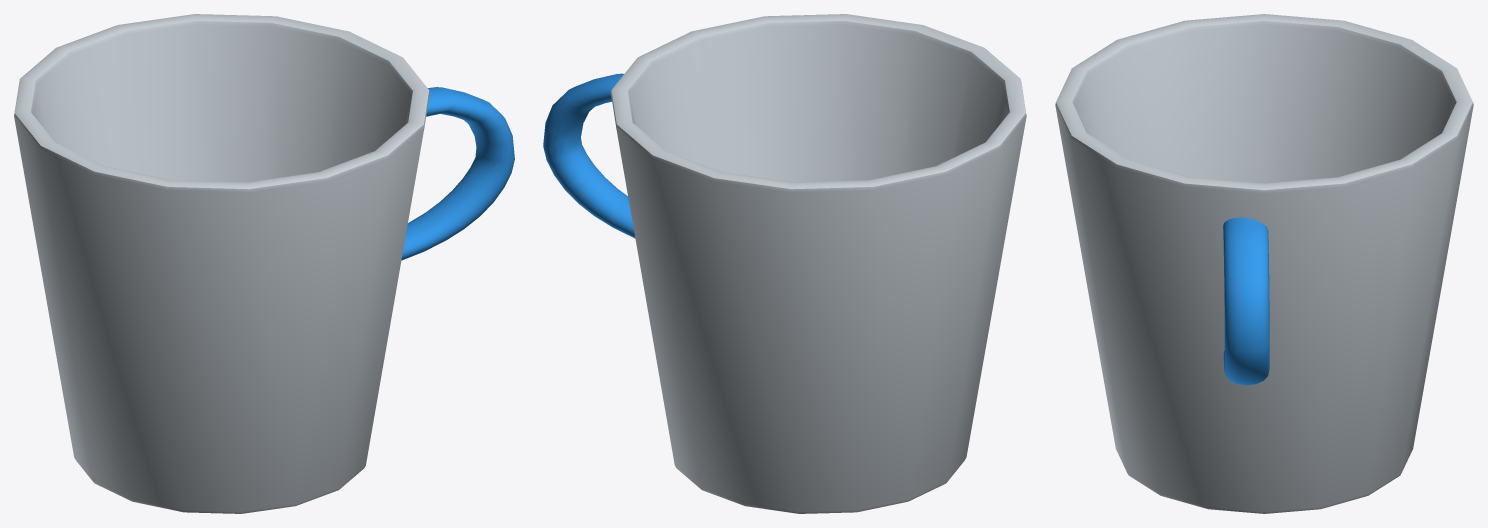
File: Taza.fbx
3 views of the same model, side by side, from view 1: azimuth 30°, elevation 25°; view 2: azimuth 150°, elevation 25°; view 3: azimuth 270°, elevation 25° (orthographic).
Parts seen in each view (by area): view 1: Object003; view 2: Object003; view 3: Object003.
Part boxes in pixels (left/top/right/bottom): Object003: left=14, top=14, right=514, bottom=513; Object003: left=543, top=14, right=1026, bottom=513; Object003: left=1055, top=14, right=1473, bottom=513.
Bounding box in the file's own units: 29.17 × 21.28 × 22.93.
